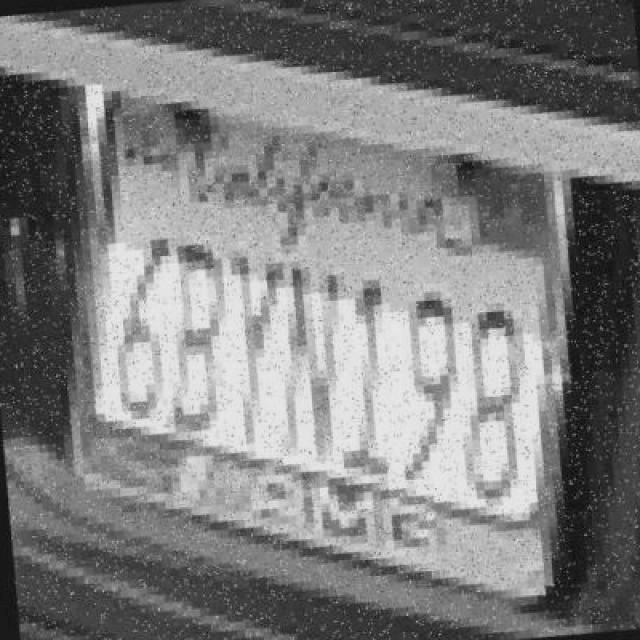licenseplate: (14, 0, 632, 640)
